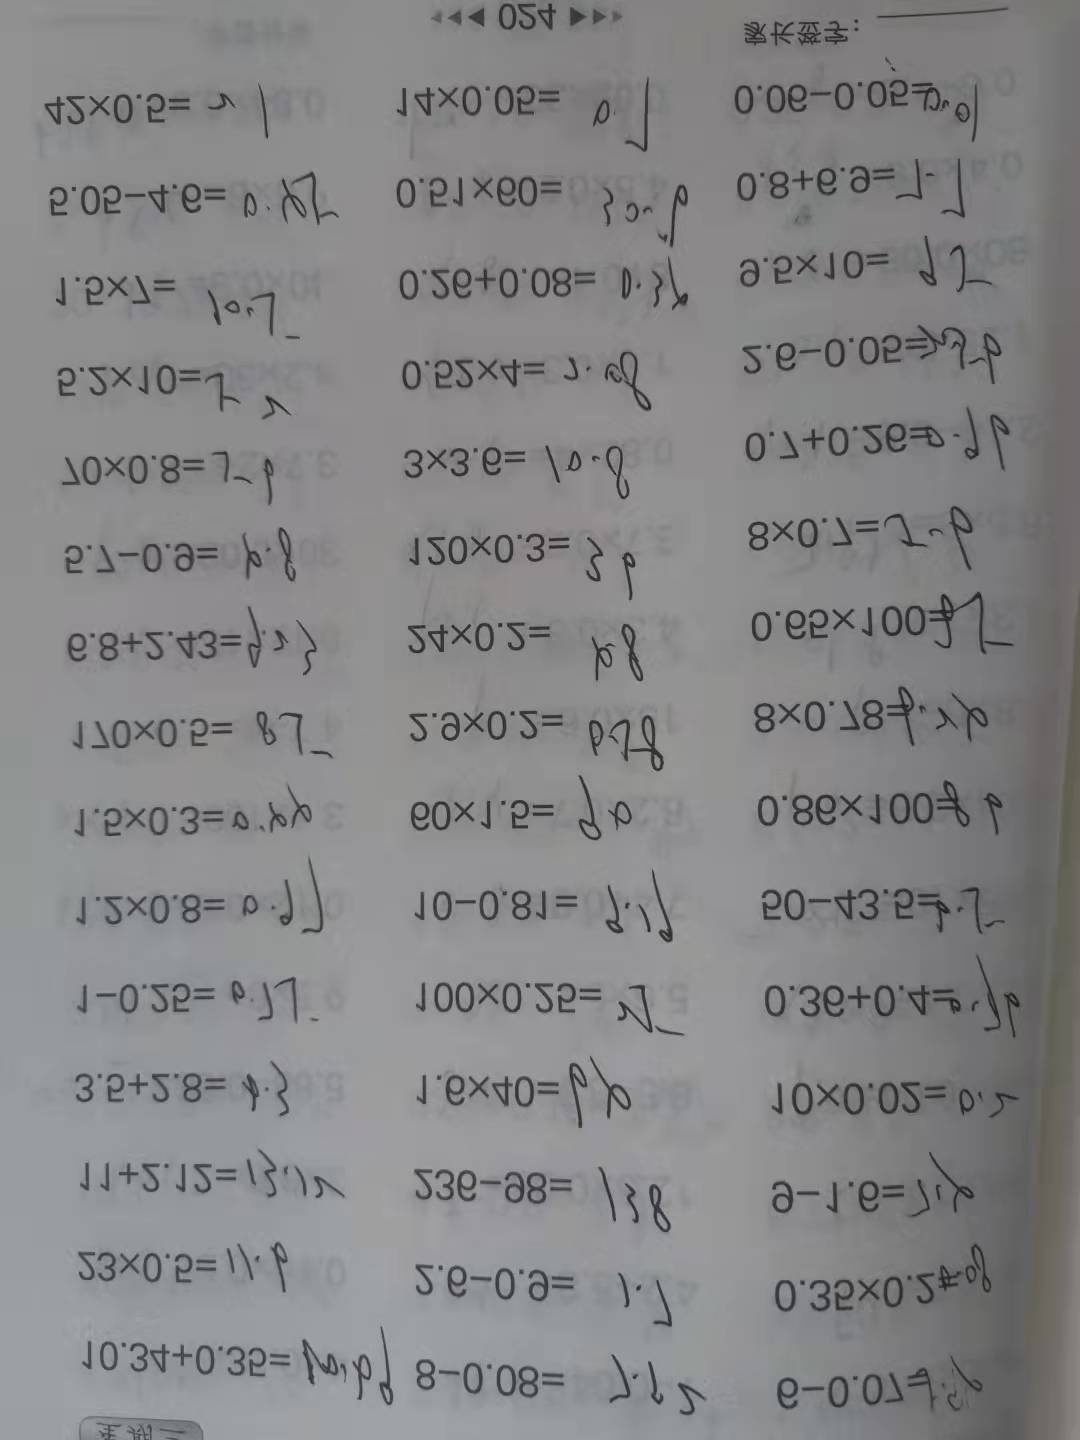equation: (71, 1318, 400, 1412), (386, 249, 697, 338), (389, 161, 701, 244), (408, 866, 677, 962), (757, 952, 1031, 1045), (739, 398, 1026, 485), (728, 311, 1013, 398), (751, 1239, 999, 1333), (50, 259, 301, 351), (61, 857, 334, 941), (740, 577, 1023, 657), (406, 1355, 710, 1429), (736, 139, 981, 229), (410, 1157, 683, 1236), (408, 1257, 680, 1336), (36, 164, 352, 231), (737, 871, 1018, 946), (395, 526, 663, 604), (413, 1049, 634, 1143), (404, 703, 677, 779), (753, 772, 1022, 849), (389, 75, 657, 151), (69, 1147, 347, 1220), (56, 778, 334, 850), (52, 604, 329, 677), (398, 431, 655, 509), (750, 490, 977, 576), (729, 679, 1007, 749), (397, 615, 653, 691), (398, 342, 664, 415), (414, 973, 689, 1042), (723, 76, 996, 145), (54, 969, 324, 1039), (54, 520, 305, 594), (31, 73, 320, 136), (754, 1071, 1024, 1140), (398, 773, 642, 848), (45, 363, 296, 435), (773, 1345, 996, 1423), (66, 1233, 299, 1305), (768, 1150, 981, 1227), (68, 1054, 302, 1125), (47, 441, 290, 508), (731, 240, 996, 300), (65, 706, 337, 763)
